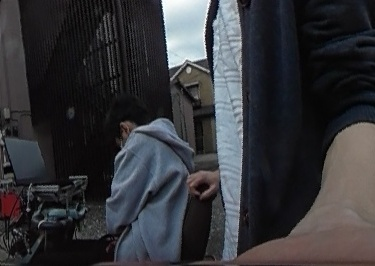person: (98, 95, 194, 266)
